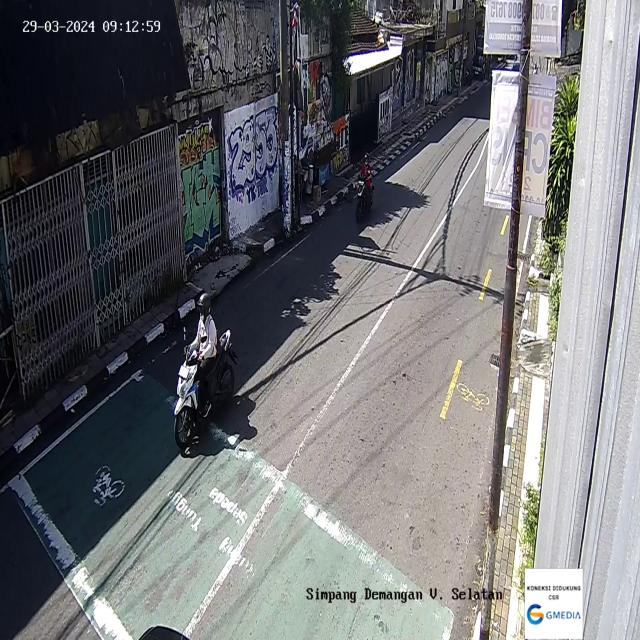motorcycle: (173, 292, 237, 450), (355, 153, 374, 222)
